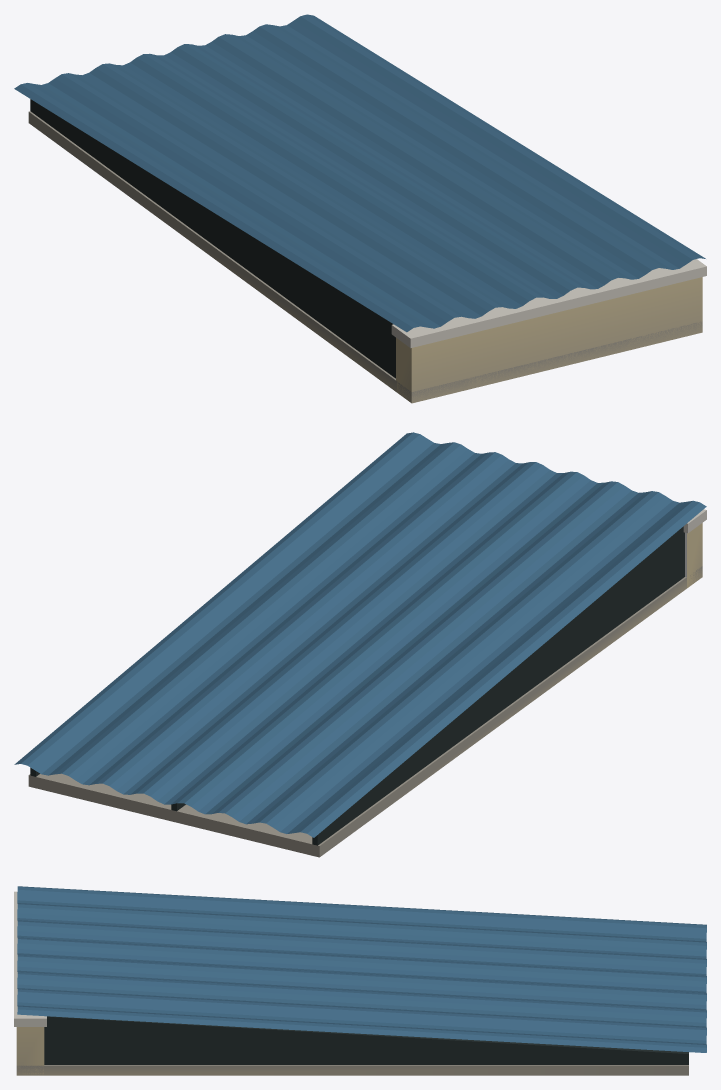
Rendered from mai_ton_32.glb.
The picture shows the model from 3 angles, top to bottom: view 1: azimuth 30°, elevation 25°; view 2: azimuth 150°, elevation 25°; view 3: azimuth 270°, elevation 25°; orthographic projection. The views are drawn at different scales.
Parts seen in each view (by area): view 1: mai_ton_32; view 2: mai_ton_32; view 3: mai_ton_32.
Part boxes in pixels (x1,y1,x2,y2): mai_ton_32: (14, 14, 706, 403); mai_ton_32: (14, 432, 706, 857); mai_ton_32: (14, 886, 706, 1075).
Bounding box in the file's own units: 3.3 × 0.7881 × 7.52.
